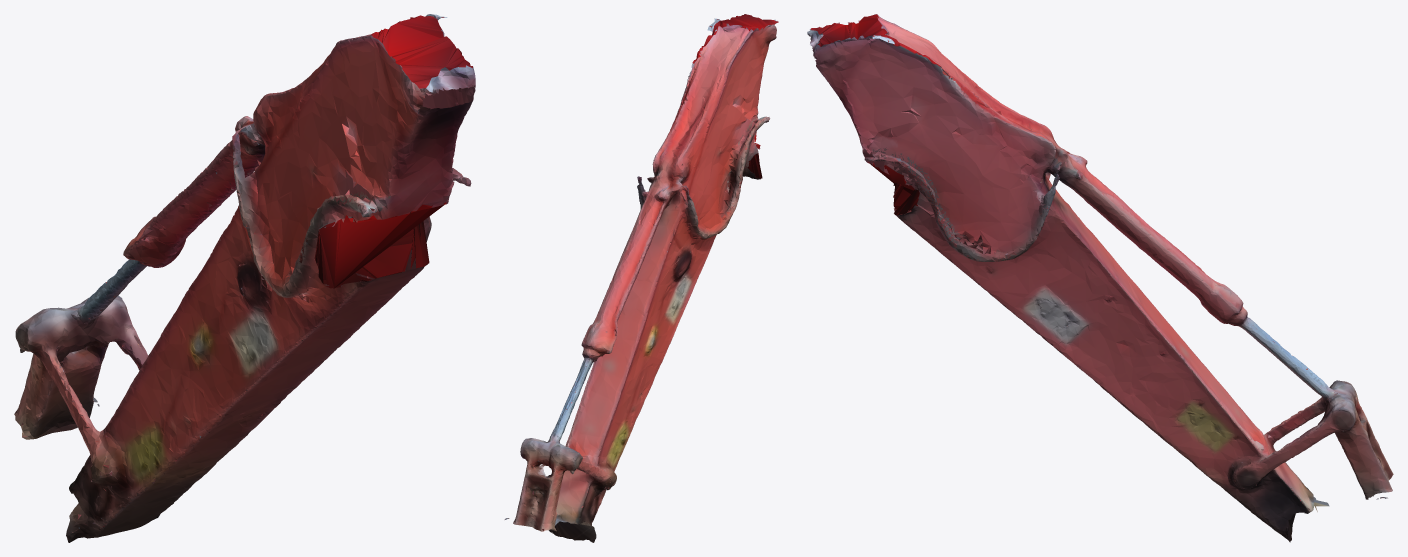
File: arm.fbx
3 views of the same model, side by side, from view 1: azimuth 30°, elevation 25°; view 2: azimuth 150°, elevation 25°; view 3: azimuth 270°, elevation 25° (orthographic). The views are drawn at different scales.
Visible parts, largest first — view 1: Arm; view 2: Arm; view 3: Arm.
Part boxes in pixels (x1,y1,x2,y2): Arm: [14, 14, 475, 542]; Arm: [504, 14, 778, 542]; Arm: [807, 14, 1393, 542].
Size of the model in its own units: 22.72 by 115 by 120.
Materials: 2 (1 with a texture image).
